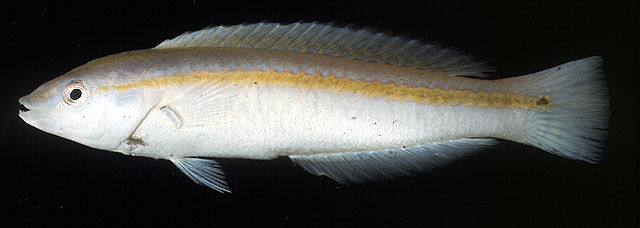fish: (18, 20, 609, 193)
